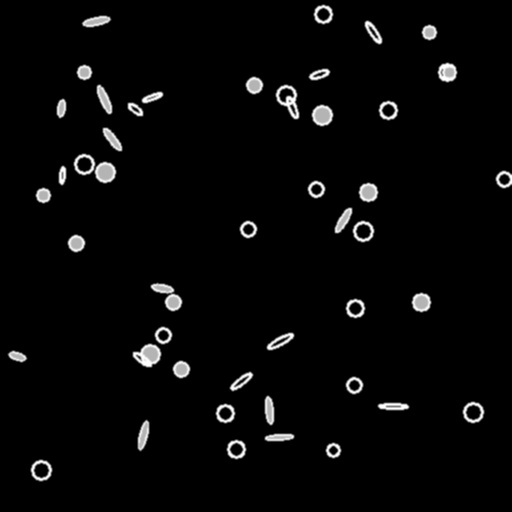pseudomonas: (101, 126, 123, 152), (95, 84, 113, 114), (266, 332, 294, 350), (229, 371, 253, 391), (334, 207, 352, 233), (364, 20, 382, 44), (136, 420, 150, 450), (131, 350, 153, 368), (285, 95, 299, 119), (82, 15, 110, 27), (264, 396, 274, 424), (141, 91, 163, 103), (127, 101, 143, 117), (309, 68, 329, 80), (151, 283, 173, 293), (8, 351, 26, 361), (378, 403, 408, 409), (266, 434, 292, 440), (57, 100, 65, 116), (59, 167, 65, 183)
synechocystis: (313, 106, 331, 124), (96, 163, 114, 181), (141, 345, 159, 363), (32, 461, 50, 479), (75, 155, 93, 173), (354, 222, 372, 240), (464, 403, 482, 421), (277, 86, 295, 104), (347, 300, 363, 316), (360, 184, 376, 200), (439, 64, 455, 80), (380, 102, 396, 118), (315, 6, 331, 22), (228, 441, 244, 457), (413, 294, 429, 310), (217, 405, 233, 421), (156, 328, 170, 342), (247, 78, 261, 92), (69, 236, 83, 250), (174, 362, 188, 376), (166, 295, 180, 309), (309, 182, 323, 196), (347, 378, 361, 392), (497, 172, 511, 186), (241, 222, 255, 236), (37, 189, 49, 201), (327, 444, 339, 456), (423, 26, 435, 38), (443, 66, 455, 78), (78, 66, 90, 78)
